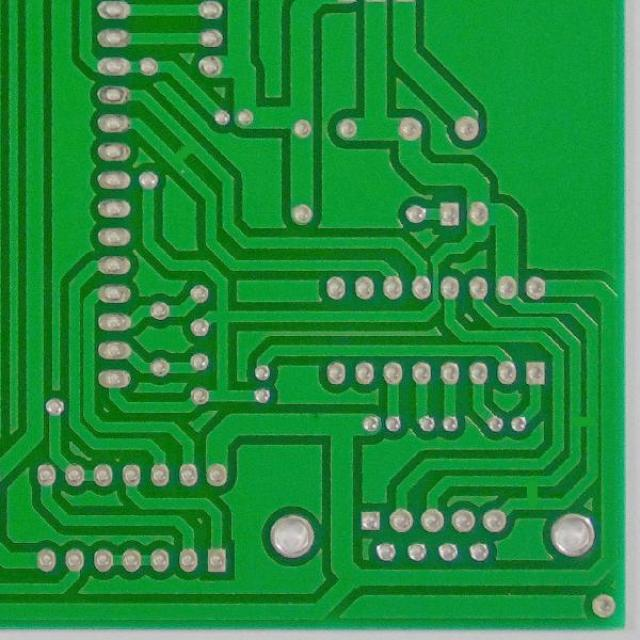Short_Circuit: (162, 132, 201, 174), (518, 472, 548, 513), (565, 408, 602, 437)
